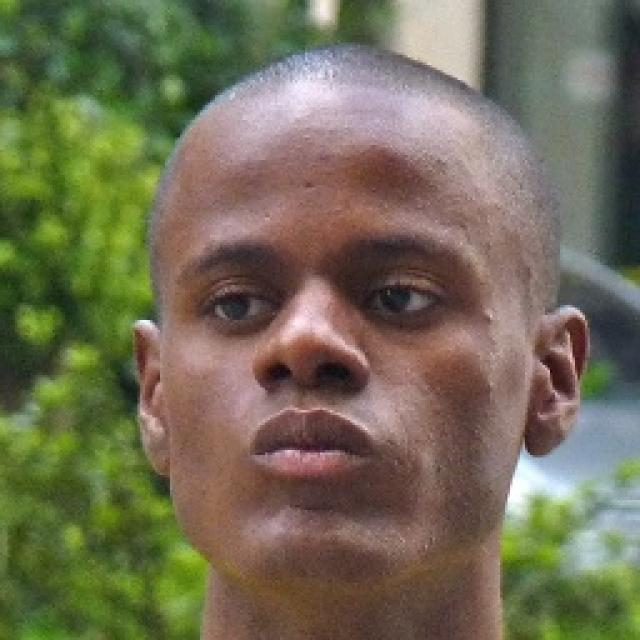earlobe: (523, 306, 589, 458), (130, 319, 172, 478)
